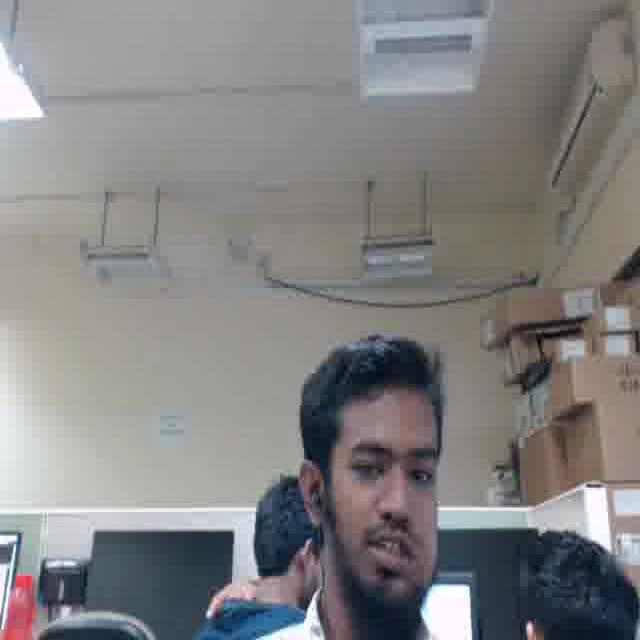Engaged: (328, 395, 440, 589)
